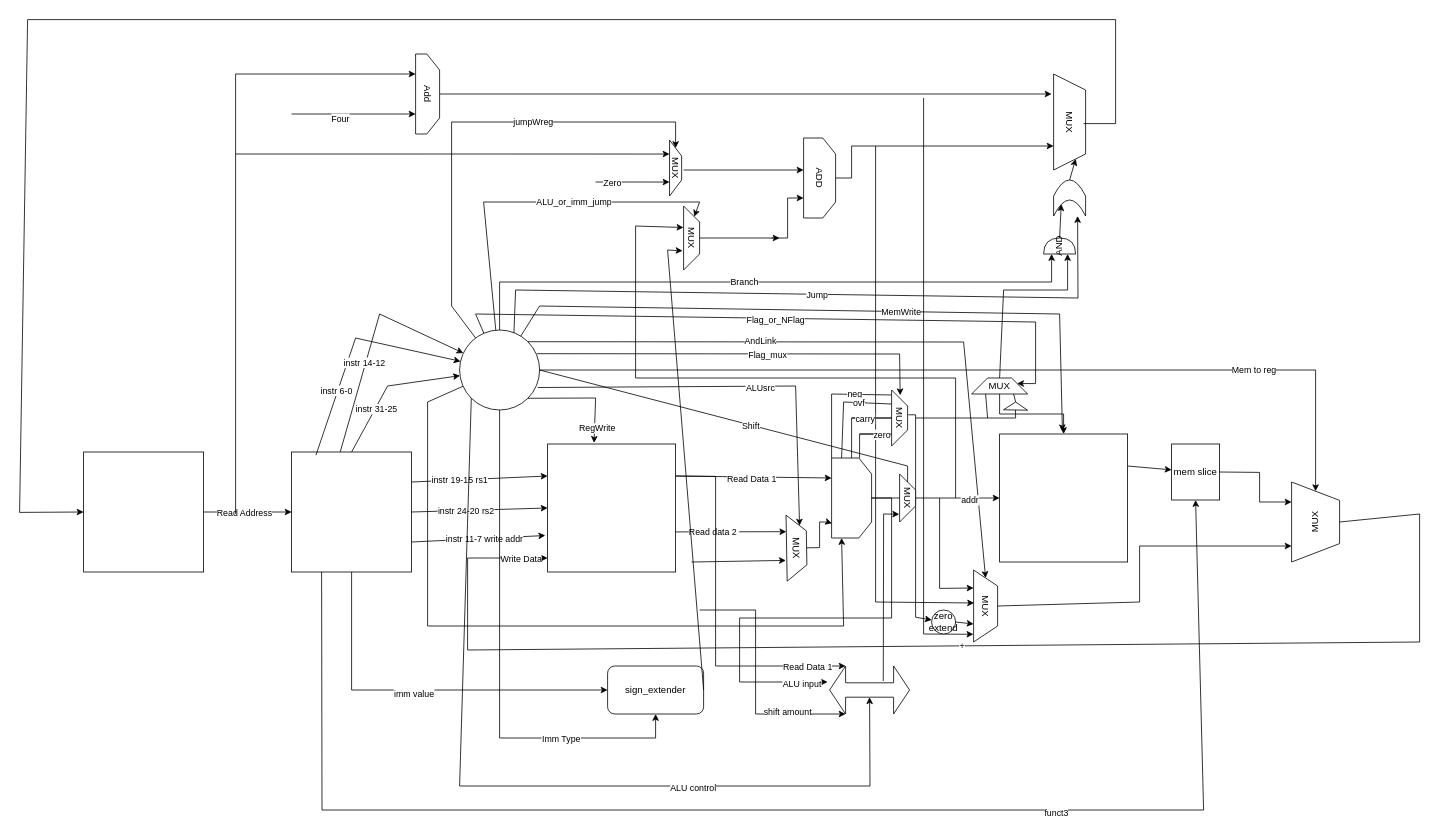
The diagram is 1440 pixels wide and 832 high, and some of its shapes have lost their labels. Here are the shapes that lost their labels. From the top down, the centre of each, then its label:
(x=1069, y=197): OR
(x=499, y=369): Control Unit
(x=143, y=511): PC Counter
(x=351, y=511): Instruction memory
(x=611, y=507): register file
(x=851, y=497): ALU
(x=1063, y=497): Memory
(x=869, y=689): barrel shifter
